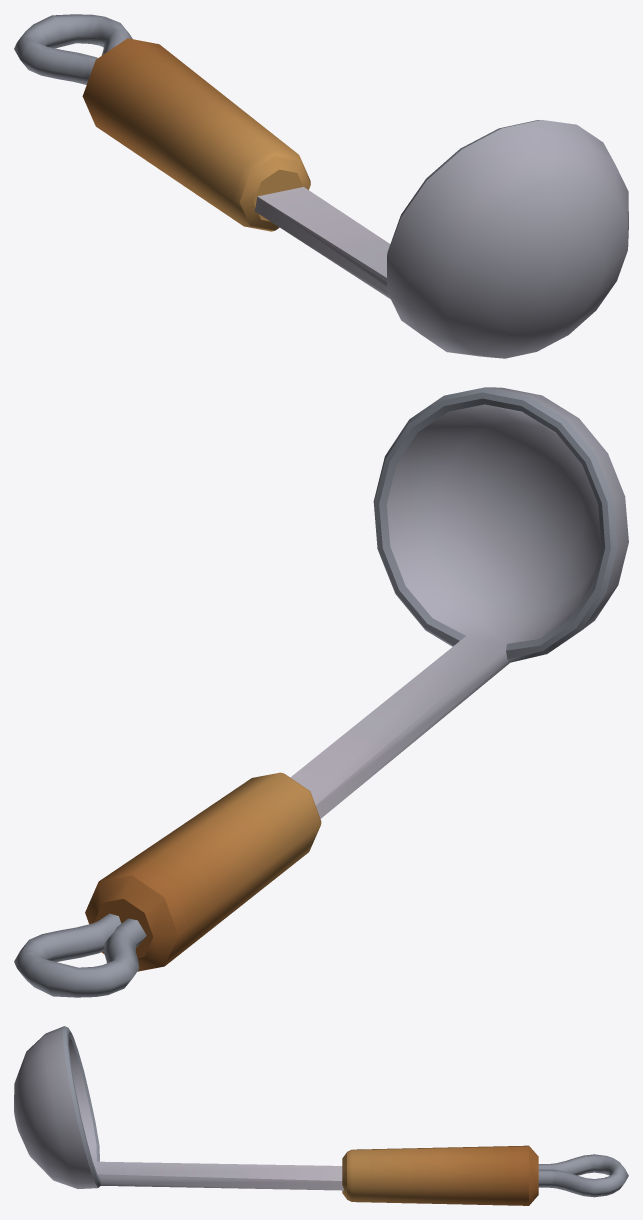
The model's file is Utensils_5_A.glb.
3 views of the same model, one above another, from view 1: azimuth 30°, elevation 25°; view 2: azimuth 150°, elevation 25°; view 3: azimuth 270°, elevation 25° (orthographic). The views are drawn at different scales.
Visible parts, largest first — view 1: Utensils_5_A; view 2: Utensils_5_A; view 3: Utensils_5_A.
Boxes of the visible parts, x1=… form: Utensils_5_A: x1=14, y1=14, x2=628, y2=358; Utensils_5_A: x1=14, y1=387, x2=628, y2=997; Utensils_5_A: x1=14, y1=1026, x2=628, y2=1205.
Bounding box in the file's own units: 0.1152 × 0.1333 × 0.4276.
2 materials, 2 textured.
